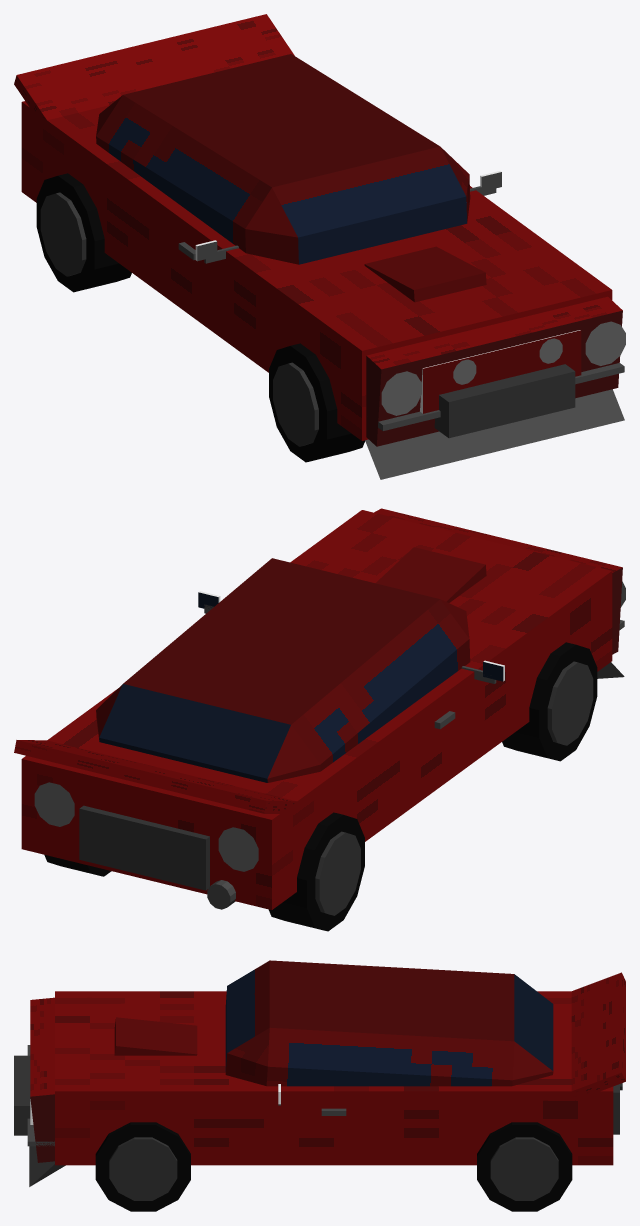
The model's file is mustangmach1.gltf.
3 renders of one model, top to bottom at view 1: azimuth 30°, elevation 25°; view 2: azimuth 150°, elevation 25°; view 3: azimuth 270°, elevation 25°, orthographic. The views are drawn at different scales.
Parts seen in each view (by area): view 1: Chassi, beveled_cuboid, cylinder (×4), pyramid, Placa_frente, AS, circle (×2), ADS; view 2: Chassi, beveled_cuboid, cylinder (×5), Placa_fundo, circle (×2); view 3: Chassi, beveled_cuboid, cylinder (×4), Placa_frente, pyramid.
Part boxes in pixels (x1=…): Chassi: x1=14, y1=14, x2=622, y2=446; beveled_cuboid: x1=96, y1=54, x2=470, y2=264; cylinder (×4): x1=36, y1=173, x2=364, y2=462; pyramid: x1=365, y1=389, x2=624, y2=479; Placa_frente: x1=434, y1=364, x2=575, y2=438; AS: x1=420, y1=330, x2=581, y2=413; circle (×2): x1=381, y1=321, x2=625, y2=415; ADS: x1=378, y1=363, x2=624, y2=430; Chassi: x1=14, y1=508, x2=622, y2=909; beveled_cuboid: x1=96, y1=558, x2=470, y2=782; cylinder (×5): x1=207, y1=642, x2=597, y2=931; Placa_fundo: x1=79, y1=805, x2=209, y2=890; circle (×2): x1=34, y1=782, x2=258, y2=871; Chassi: x1=30, y1=972, x2=625, y2=1165; beveled_cuboid: x1=225, y1=960, x2=553, y2=1086; cylinder (×4): x1=95, y1=1122, x2=572, y2=1211; Placa_frente: x1=14, y1=1055, x2=30, y2=1135; pyramid: x1=29, y1=1146, x2=65, y2=1186.
Size of the model in its own units: 0.6625 by 0.4164 by 1.4.
25 materials, 23 textured.
